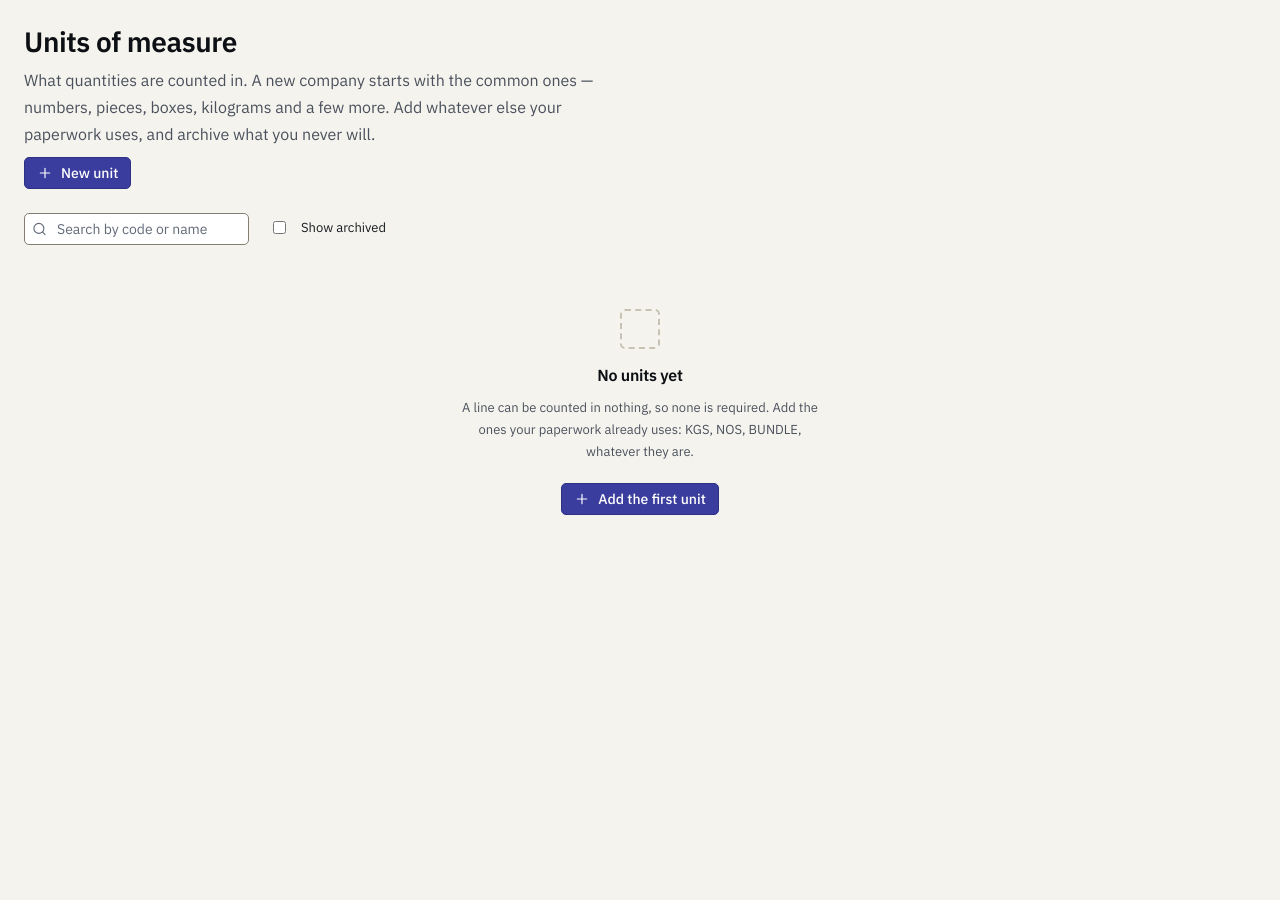
it: adding › shows the code the books actually stored, not the one that was typed
Expected: the heading "No units yet" is shown, [597,365,683,385]
Click the button "New unit" at [78, 173], box [24,157,131,189]
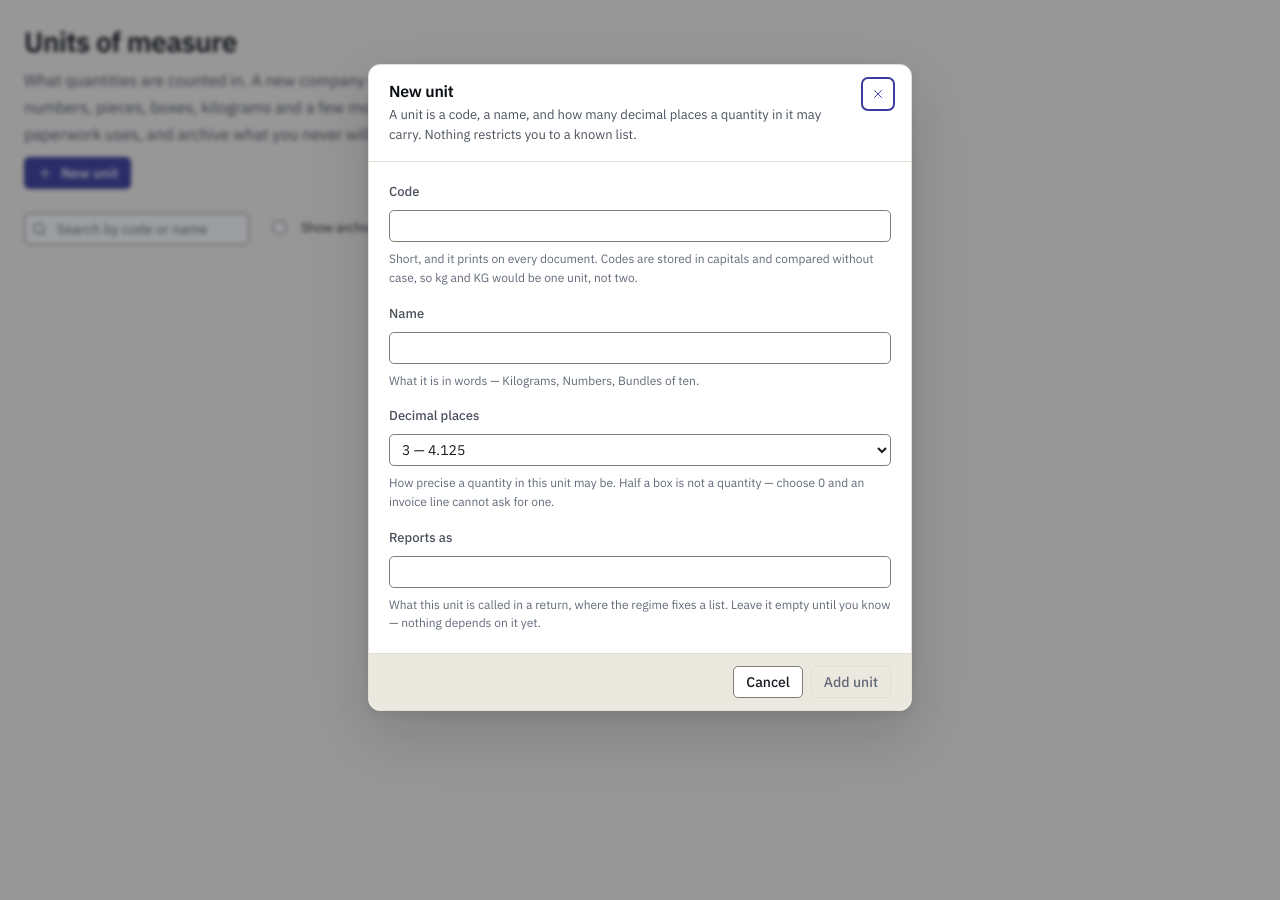
Type "kgs" into the field labelled "Code" at [640, 226], box [389,210,891,242]
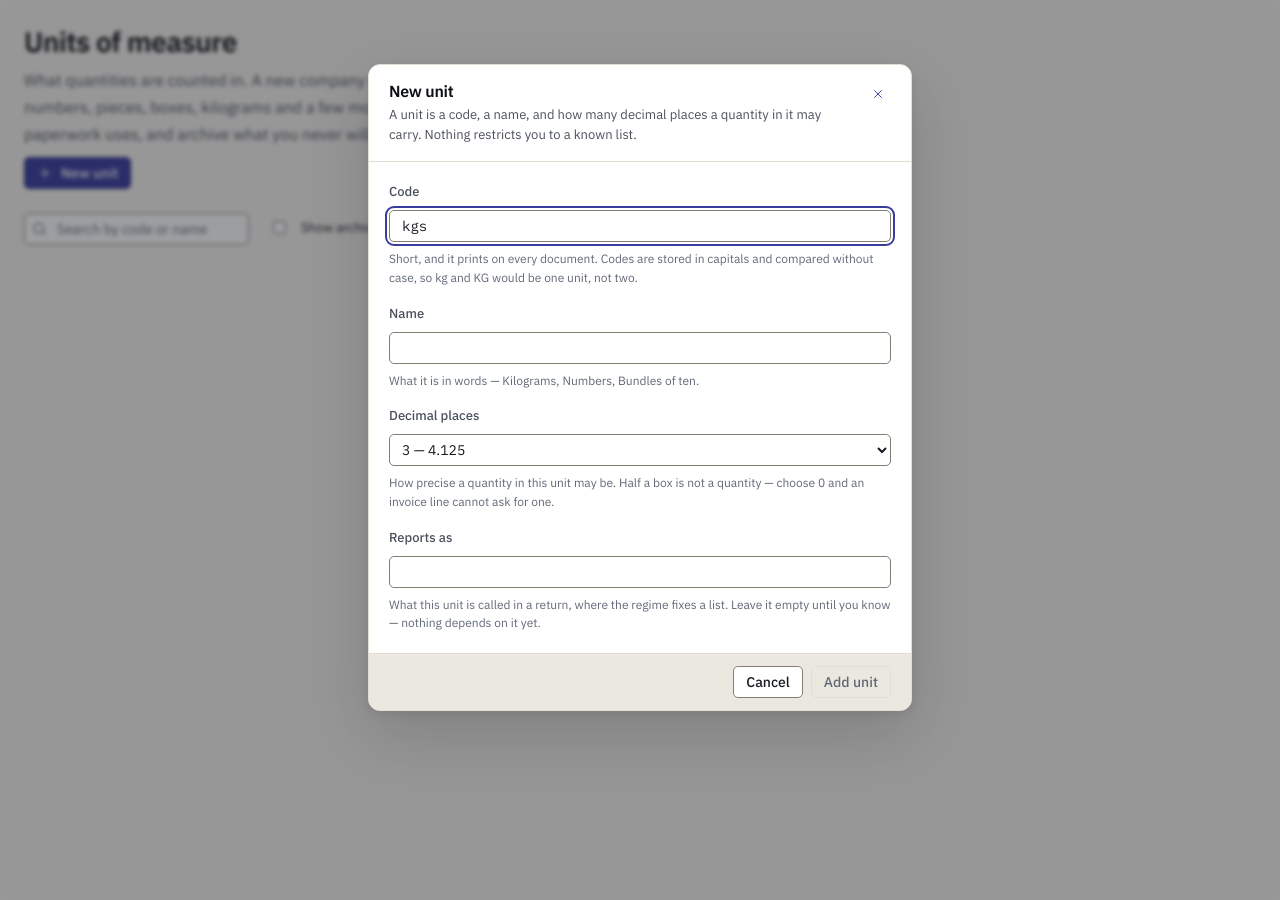
Type "Kilograms" into the field labelled "Name" at [640, 348], box [389,332,891,364]
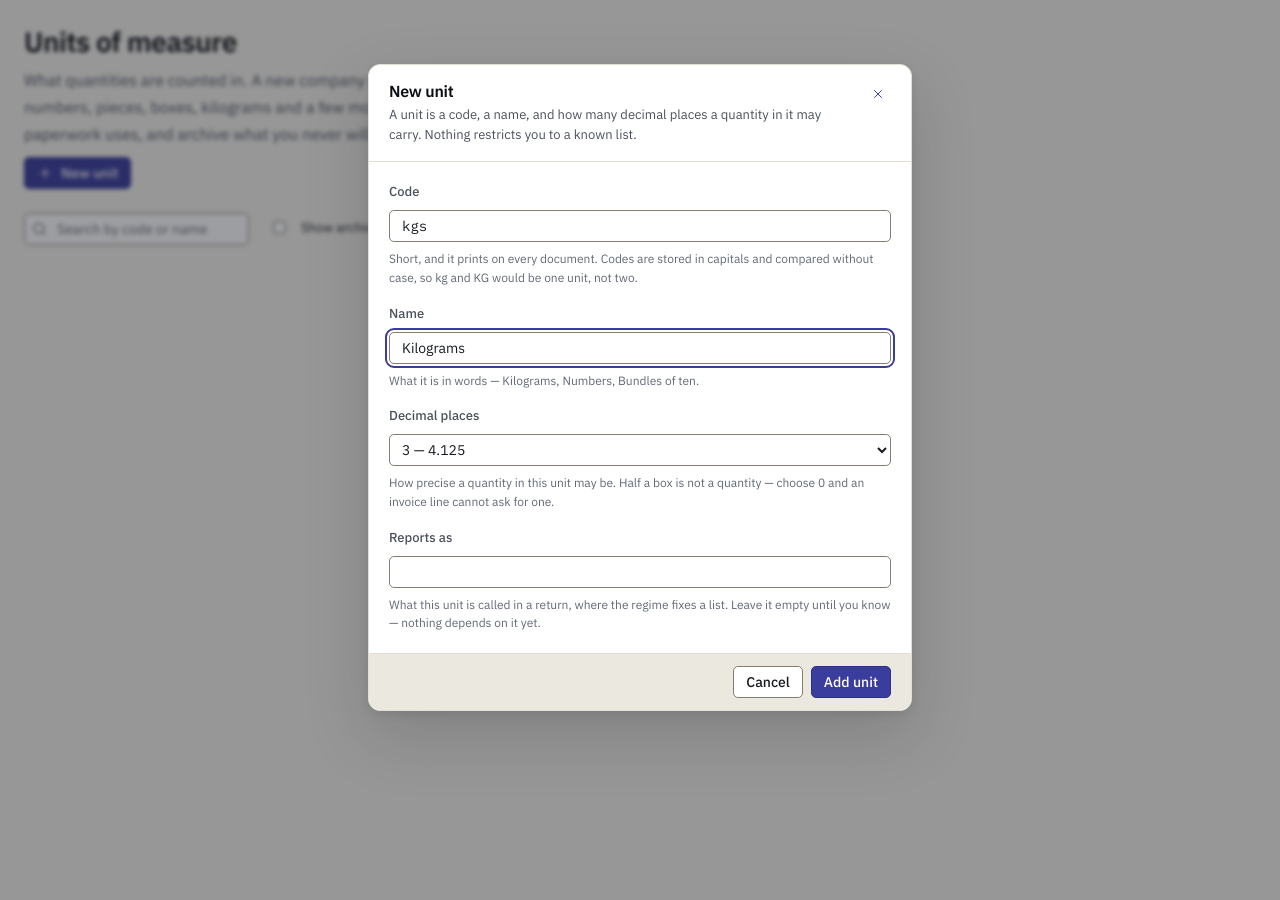
Click the button "Add unit" at [851, 682], box [811,666,891,698]
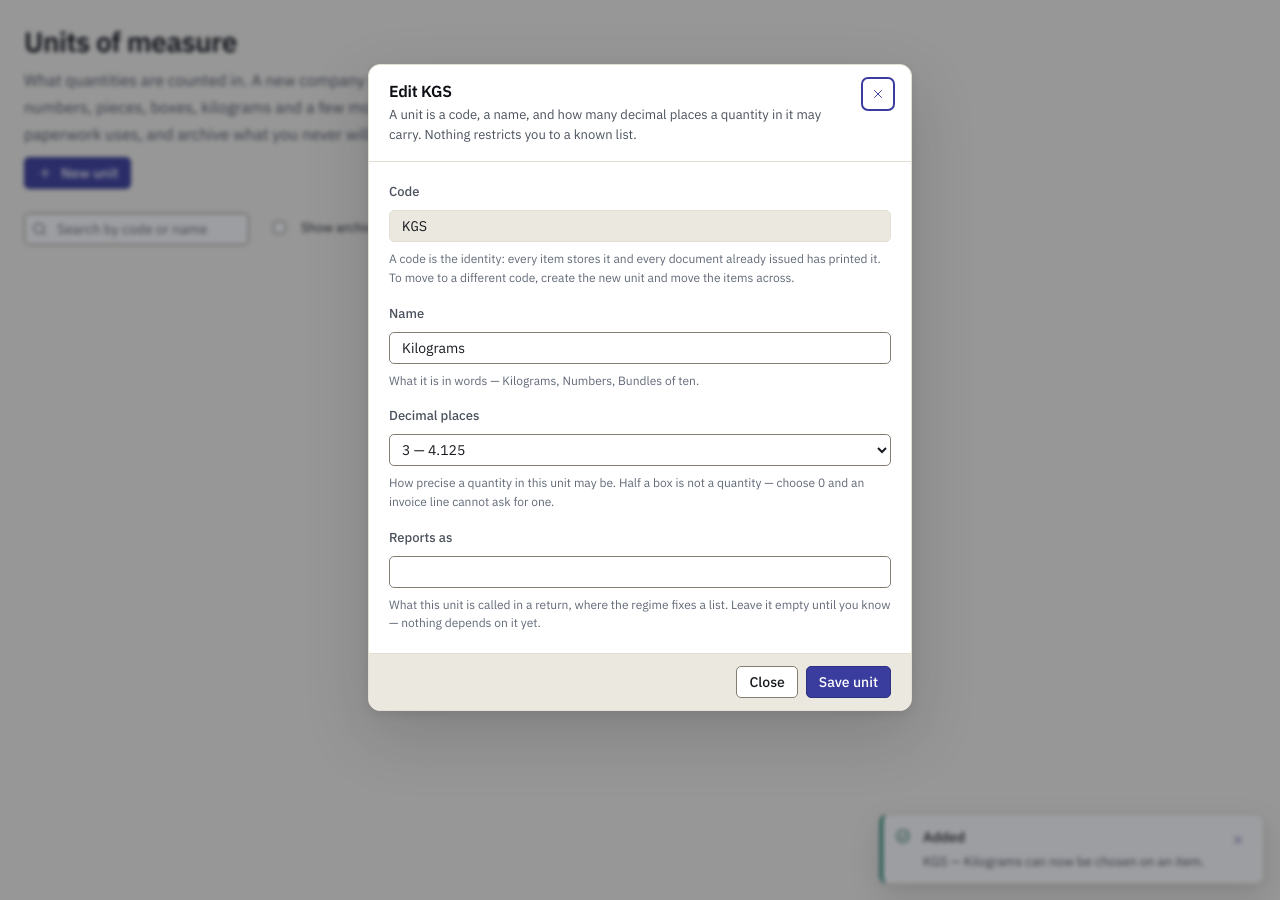
Result: the field labelled "Code" holds "KGS" at [389,210,891,242]
Result: the button "Save unit" is shown at [806,666,891,698]
